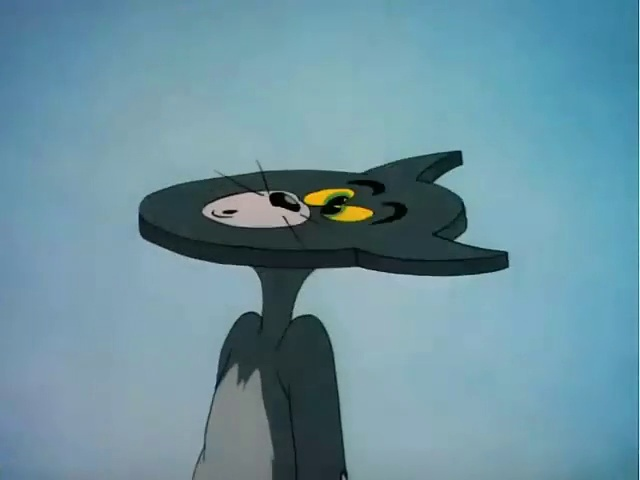tom: (120, 116, 524, 464)
